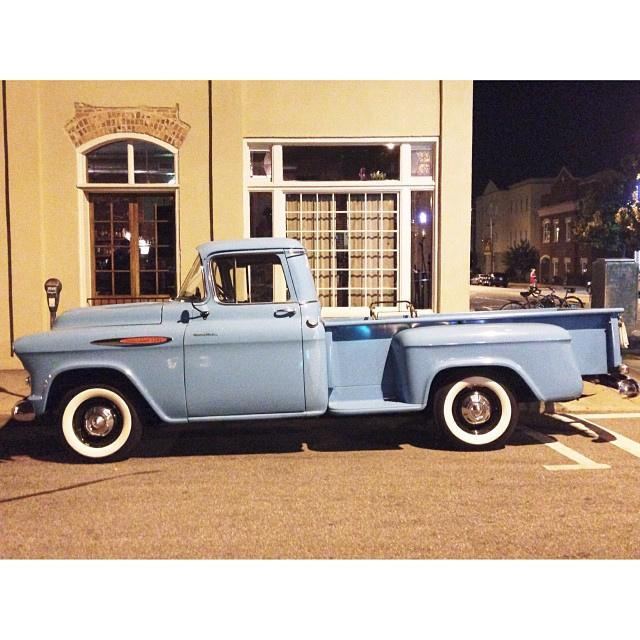Vehicle: (11, 236, 626, 463)
